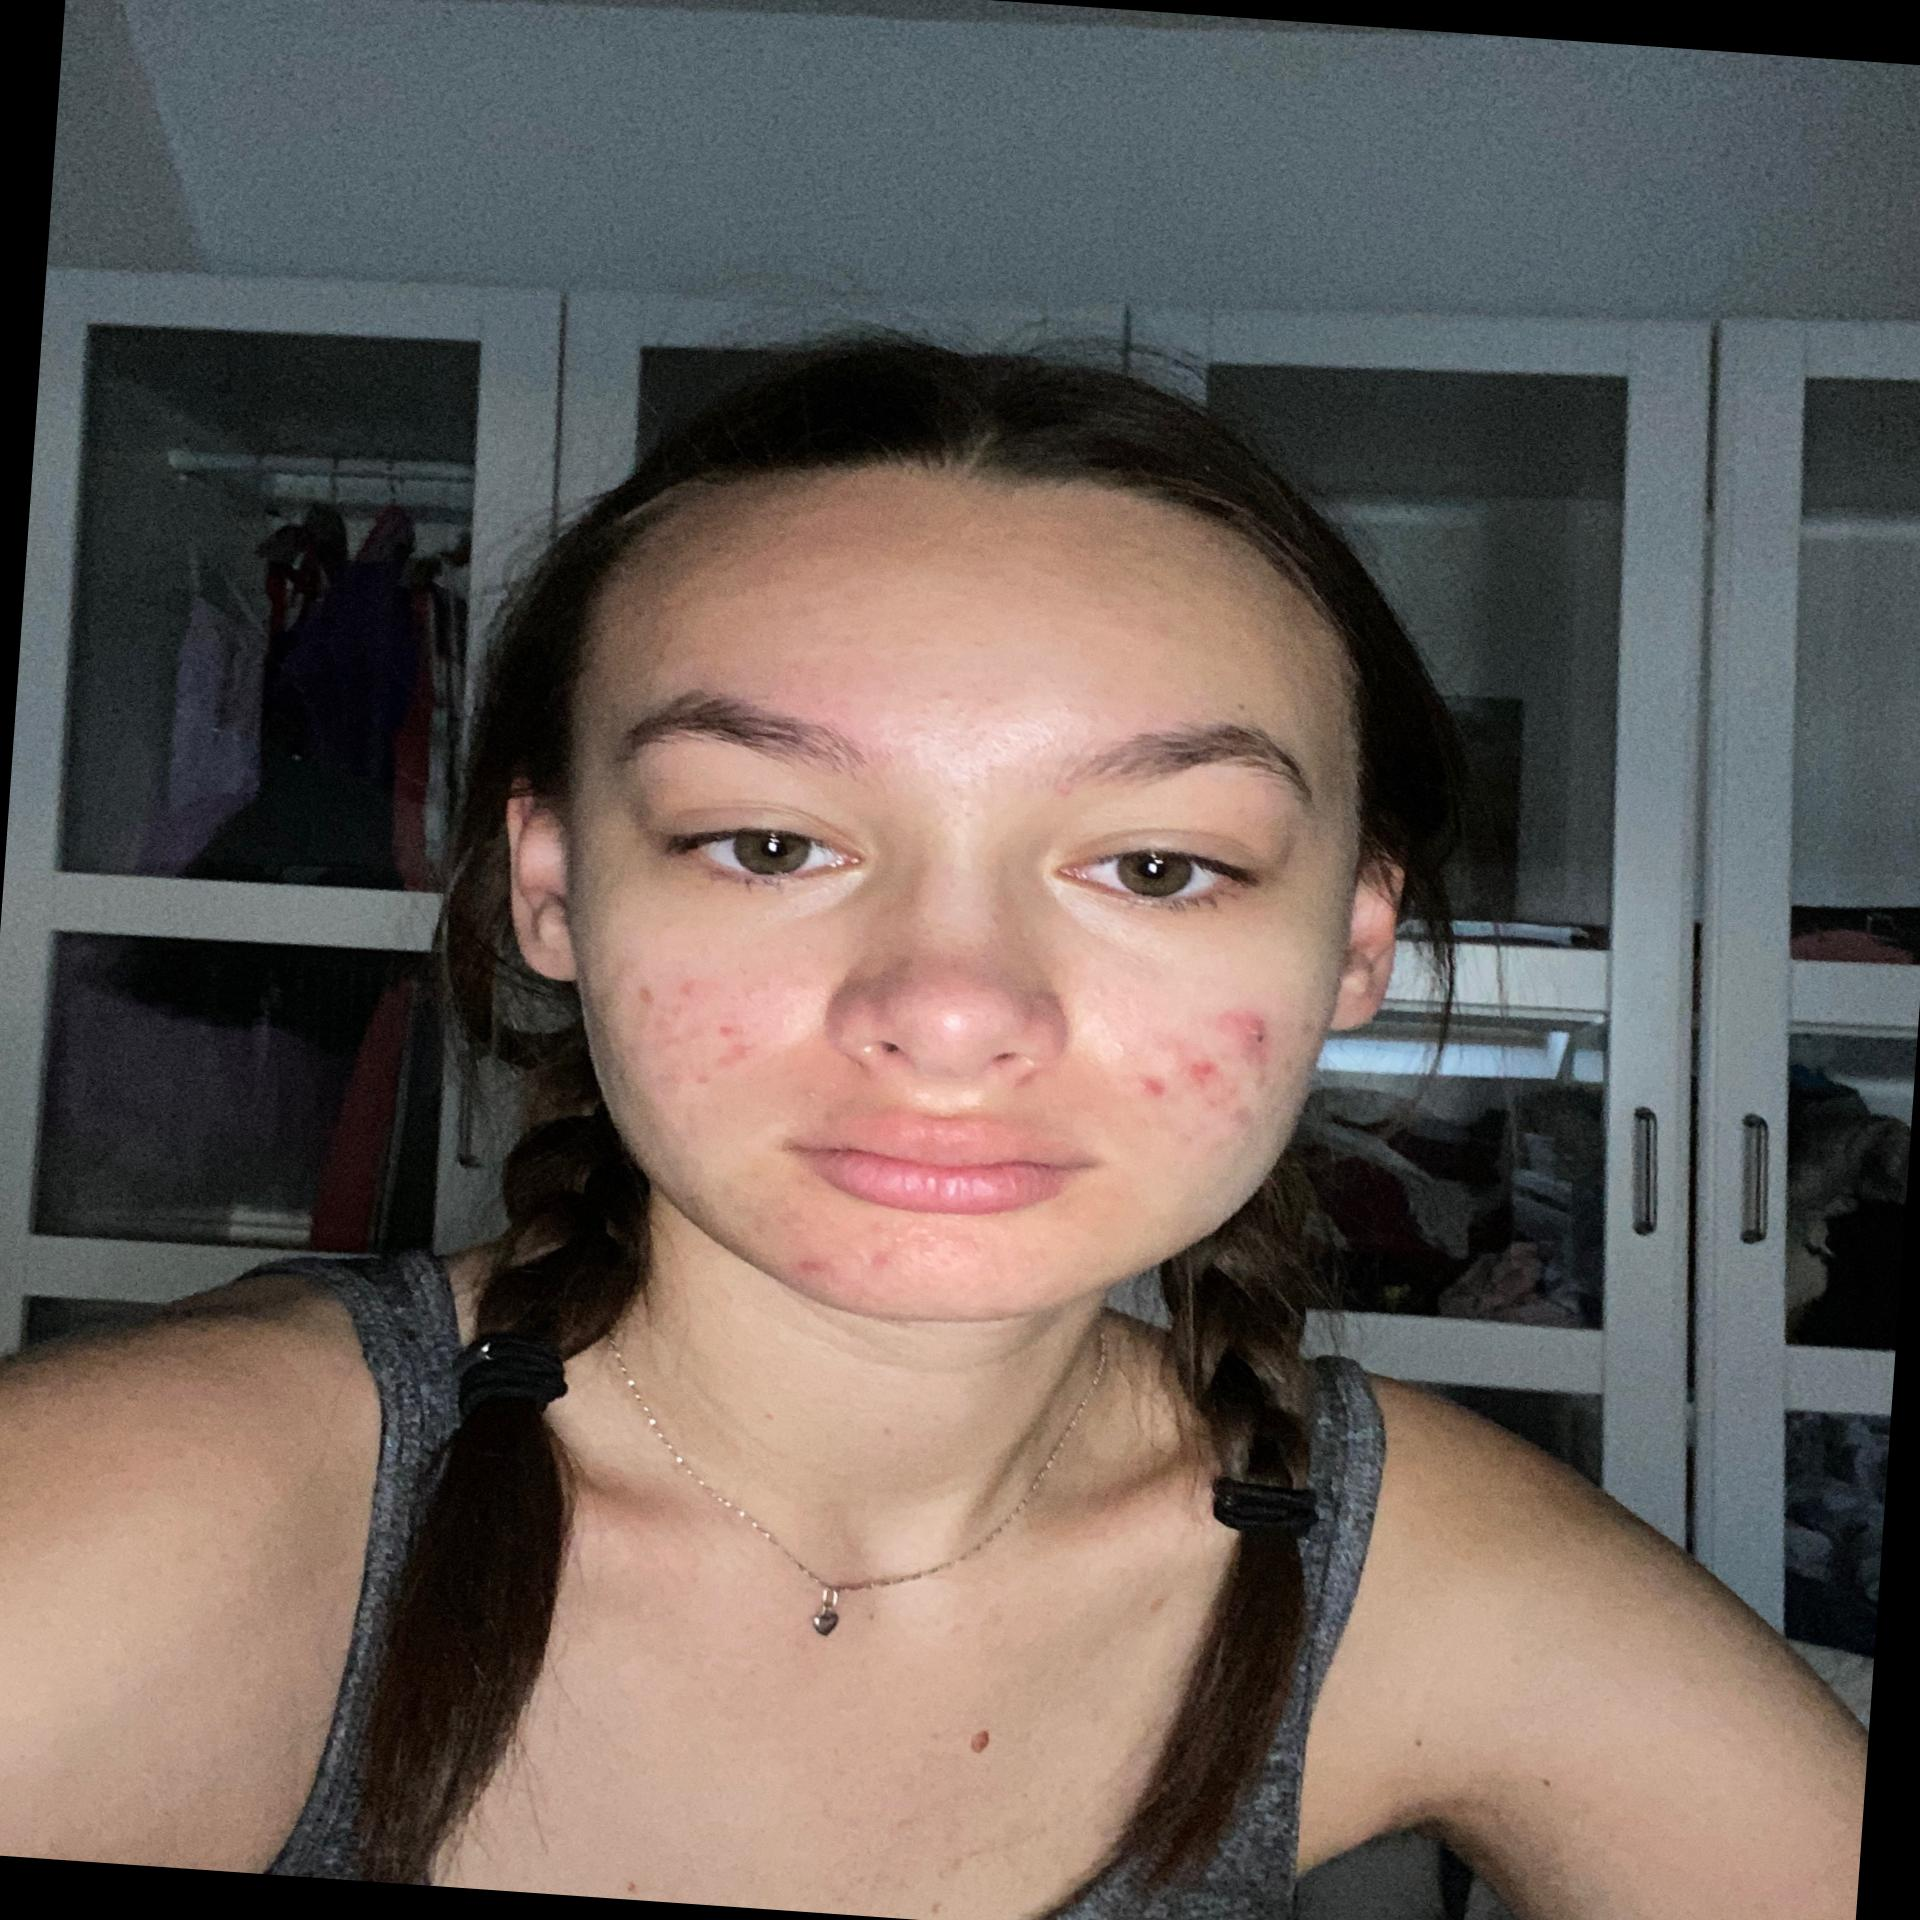Acne: (1208, 1006, 1275, 1087), (1175, 1051, 1238, 1109), (709, 1020, 760, 1071), (860, 1217, 898, 1273), (782, 1250, 825, 1282), (672, 974, 703, 1002), (631, 983, 659, 1007), (1136, 1073, 1166, 1095), (687, 1069, 714, 1088), (1050, 782, 1076, 800)
Blackhead: (1250, 1029, 1269, 1046)
